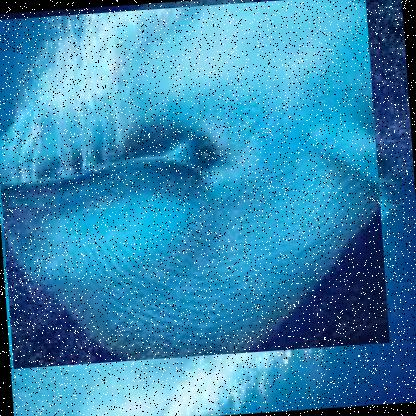blue_whale: (0, 0, 390, 370)
